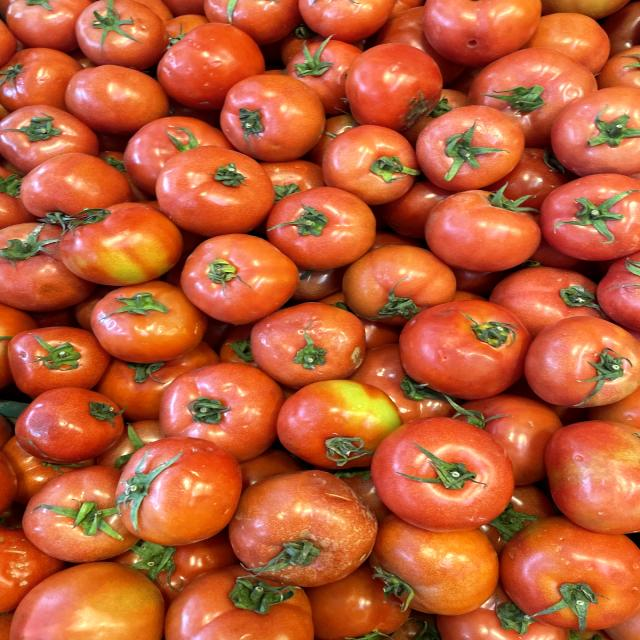tomato: (217, 443, 379, 587), (88, 427, 247, 549), (359, 414, 524, 530), (400, 170, 557, 276), (393, 289, 538, 402), (81, 264, 223, 365), (206, 67, 342, 168), (521, 308, 640, 421), (255, 178, 389, 276), (176, 224, 304, 322), (152, 137, 279, 235), (530, 156, 640, 259), (402, 100, 530, 184)
